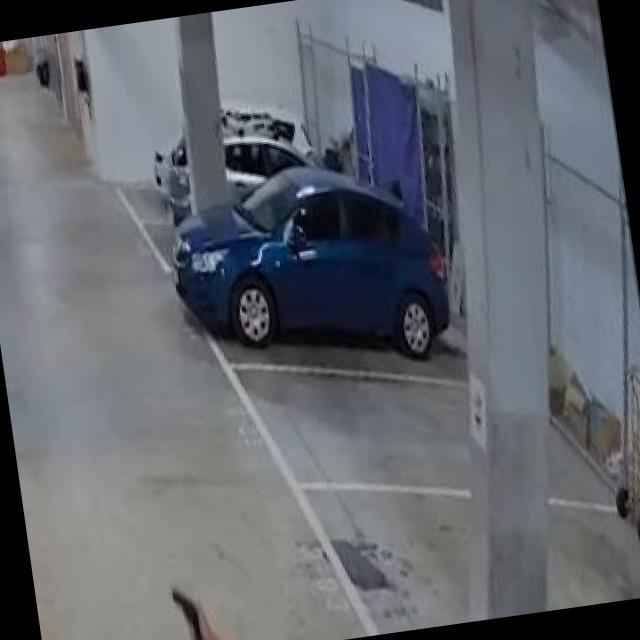Guns: (163, 573, 222, 640)
